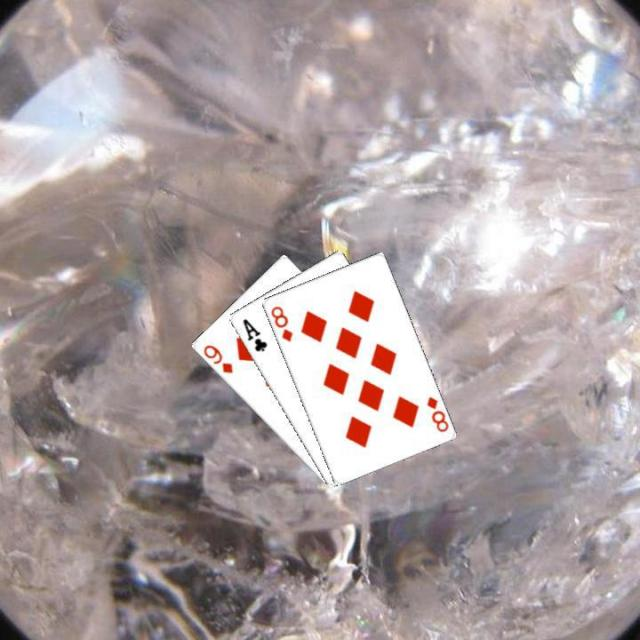8D: (422, 392, 450, 434), (267, 302, 294, 344)
9D: (199, 341, 235, 375)
AC: (238, 314, 268, 354)
